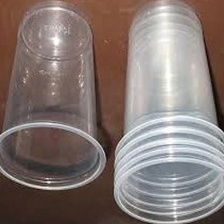glass: (110, 0, 224, 224), (0, 0, 111, 197)
